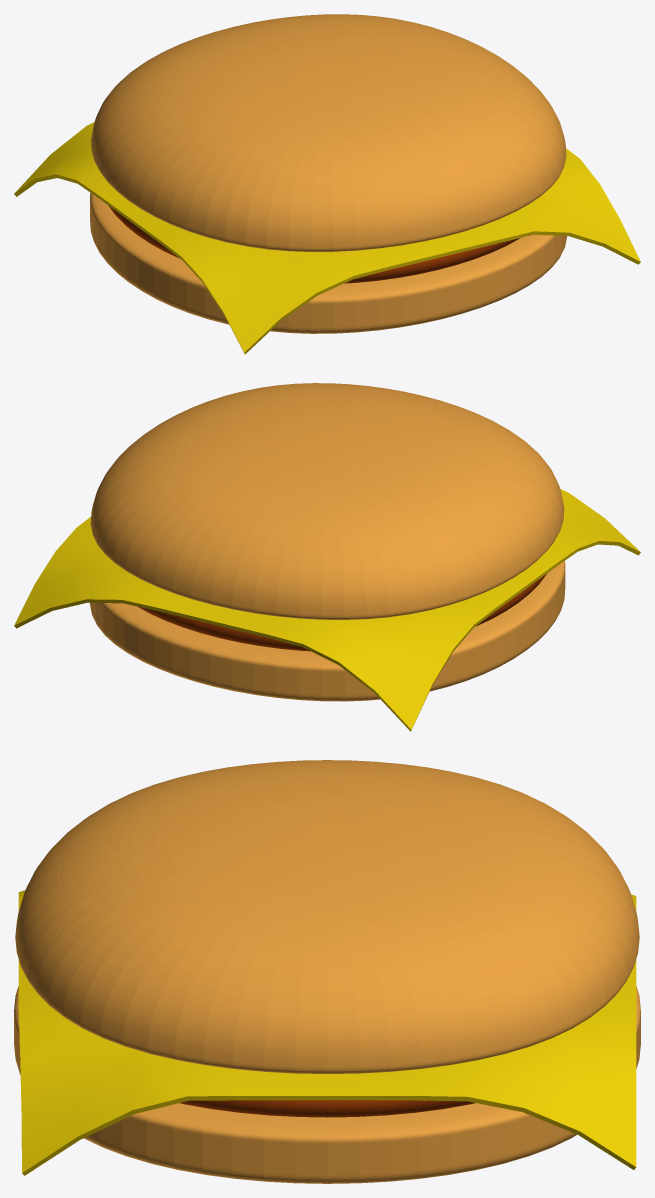
The model's file is humburger.glb.
The picture shows the model from 3 angles, top to bottom: view 1: azimuth 30°, elevation 25°; view 2: azimuth 150°, elevation 25°; view 3: azimuth 270°, elevation 25°; orthographic projection. The views are drawn at different scales.
Parts seen in each view (by area): view 1: Cube.002, Plane, Cube, Cube.001; view 2: Cube.002, Plane, Cube, Cube.001; view 3: Cube.002, Plane, Cube, Cube.001.
Boxes of the visible parts, bbox=[...] form: Cube.002: bbox=[91, 14, 566, 251]; Plane: bbox=[14, 122, 640, 354]; Cube: bbox=[90, 193, 567, 333]; Cube.001: bbox=[108, 205, 520, 283]; Cube.002: bbox=[90, 383, 564, 619]; Plane: bbox=[14, 489, 640, 731]; Cube: bbox=[89, 561, 565, 701]; Cube.001: bbox=[138, 574, 546, 651]; Cube.002: bbox=[15, 760, 639, 1073]; Plane: bbox=[18, 890, 636, 1175]; Cube: bbox=[14, 986, 640, 1183]; Cube.001: bbox=[179, 1100, 475, 1117].
Bounding box in the file's own units: 9.05 × 3.79 × 9.05.
